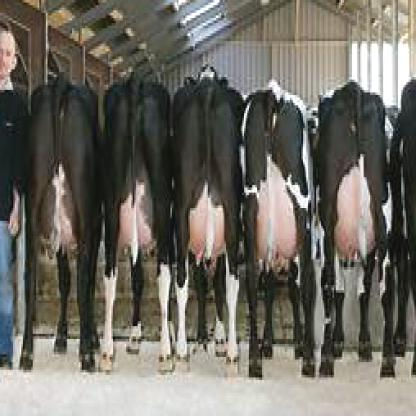cow: (18, 69, 100, 383), (319, 80, 395, 382), (242, 80, 318, 380), (100, 61, 170, 378), (174, 64, 239, 378), (395, 67, 414, 388)
